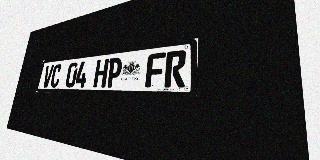0: (65, 62, 79, 87)
4: (74, 61, 89, 87)
C: (49, 64, 62, 87)
F: (145, 52, 166, 87)
H: (93, 59, 109, 87)
P: (105, 57, 123, 87)
R: (164, 50, 187, 87)
V: (42, 65, 54, 87)
